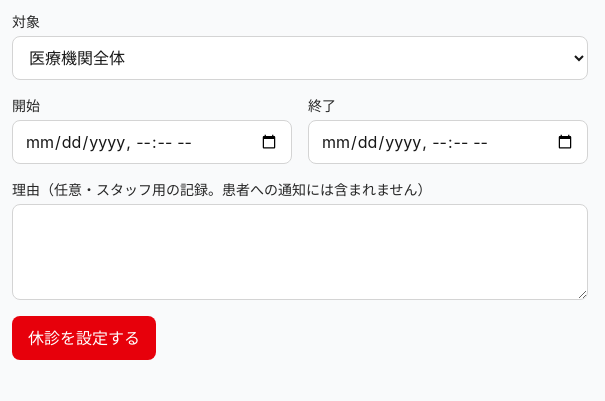
Test: ClosureForm（休診・医師不在の設定、REQ-005-AC-3） › 開始・終了が未入力ならエラー
Click the button "休診を設定する".
click(84, 338)  # box [12,316,156,360]
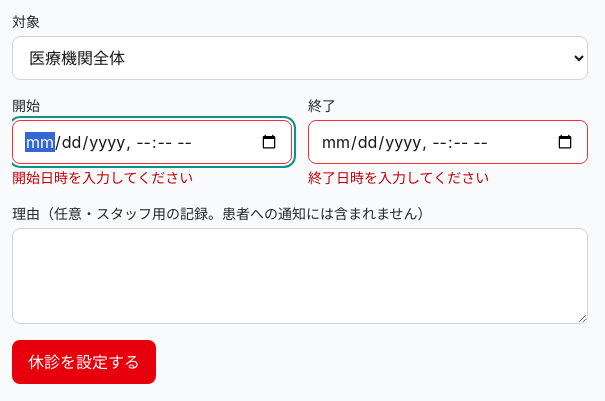
Expected: the text "開始日時を入力してください" is shown, [12,169,193,186]
Expected: the text "終了日時を入力してください" is shown, [308,169,489,186]
